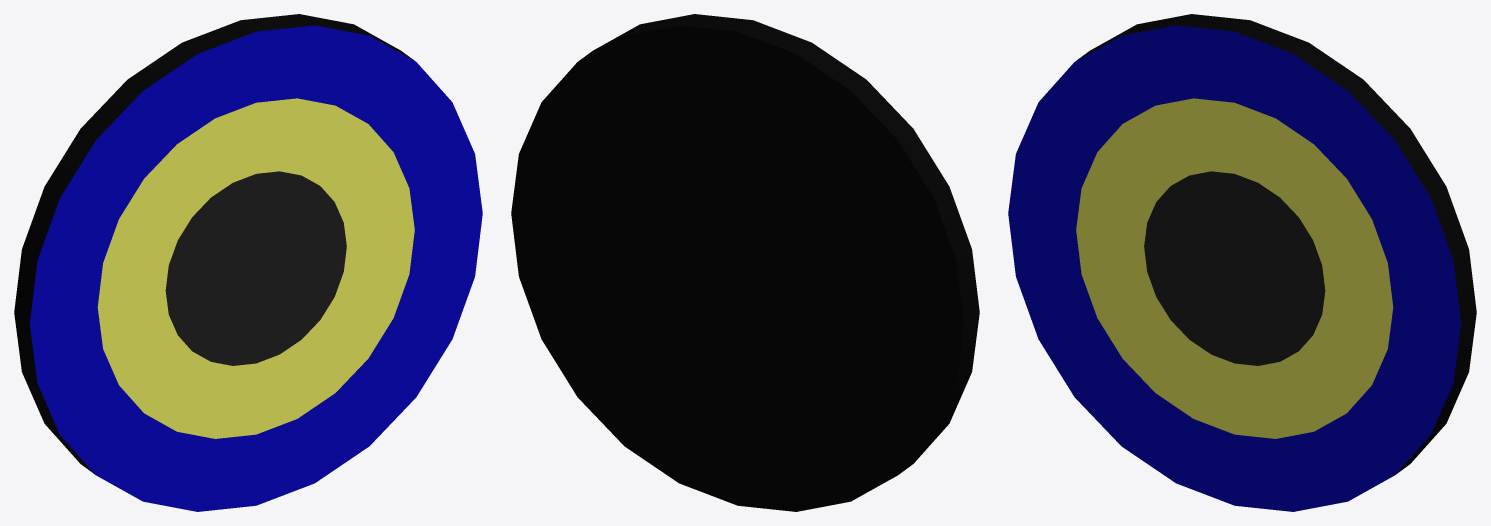
File: target.fbx
3 renders of one model, left to right at view 1: azimuth 30°, elevation 25°; view 2: azimuth 150°, elevation 25°; view 3: azimuth 330°, elevation 25°, orthographic.
Parts seen in each view (by area): view 1: Model; view 2: Model; view 3: Model.
Part boxes in pixels (x1,y1,x2,y2): Model: (14, 14, 482, 511); Model: (511, 14, 979, 511); Model: (1008, 14, 1476, 511).
Bounding box in the file's own units: 100 × 100 × 5.95.
